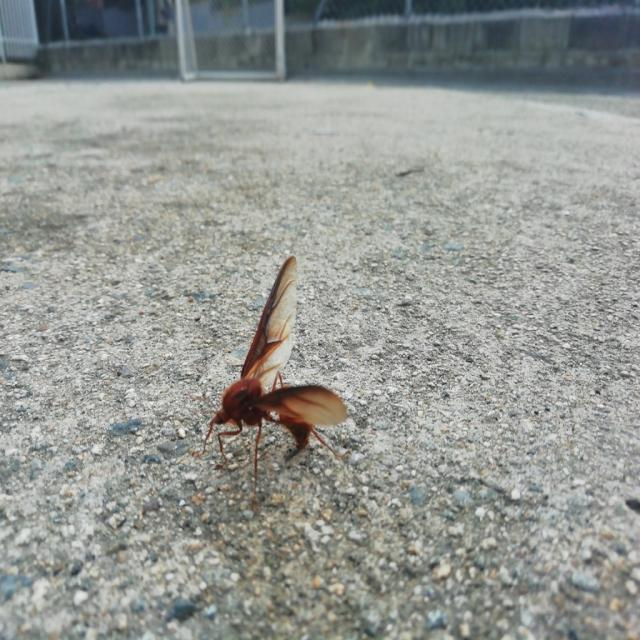Alive-Male-Alate: (190, 254, 352, 499)
